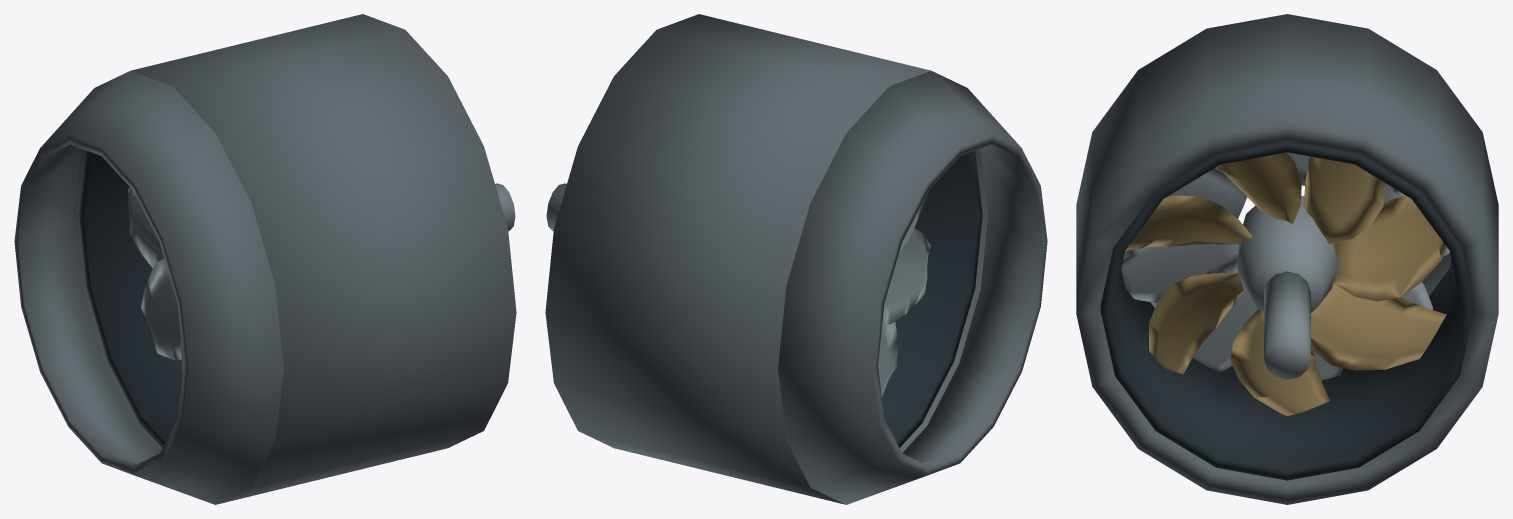
Rendered from CN_PJ_Type093B_LOD2.fbx.
3 views of the same model, side by side, from view 1: azimuth 30°, elevation 25°; view 2: azimuth 150°, elevation 25°; view 3: azimuth 270°, elevation 25° (orthographic). The views are drawn at different scales.
Visible parts, largest first — view 1: CN_PJ_Type093B_LOD2_Housing.001, CN_PJ_Type093B_LOD2_Nozzle.001, CN_PJ_Type093B_LOD2_Lining.001, CN_PJ_Type093B_LOD2_Stator_08.001, CN_PJ_Type093B_LOD2_Stator_00.001; view 2: CN_PJ_Type093B_LOD2_Housing.001, CN_PJ_Type093B_LOD2_Nozzle.001, CN_PJ_Type093B_LOD2_Lining.001, CN_PJ_Type093B_LOD2_Stator_05.001, CN_PJ_Type093B_LOD2_Stator_06.001; view 3: CN_PJ_Type093B_LOD2_Housing.001, CN_PJ_Type093B_LOD2_Lining.001, CN_PJ_Type093B_LOD2_Rotor_06.001, CN_PJ_Type093B_LOD2_Rotor_00.001, CN_PJ_Type093B_LOD2_Hub.001, CN_PJ_Type093B_LOD2_Rotor_04.001, CN_PJ_Type093B_LOD2_Rotor_01.001, CN_PJ_Type093B_LOD2_Shaft.001, CN_PJ_Type093B_LOD2_Rotor_05.001, CN_PJ_Type093B_LOD2_Rotor_03.001, CN_PJ_Type093B_LOD2_Stator_05.001, CN_PJ_Type093B_LOD2_Rotor_02.001 (+3 smaller).
Part boxes in pixels (box(x1,y1,x2,y2)): CN_PJ_Type093B_LOD2_Housing.001: box(73, 14, 516, 504); CN_PJ_Type093B_LOD2_Nozzle.001: box(14, 71, 283, 504); CN_PJ_Type093B_LOD2_Lining.001: box(79, 151, 182, 447); CN_PJ_Type093B_LOD2_Stator_08.001: box(141, 259, 181, 359); CN_PJ_Type093B_LOD2_Stator_00.001: box(128, 187, 164, 268); CN_PJ_Type093B_LOD2_Housing.001: box(545, 14, 988, 504); CN_PJ_Type093B_LOD2_Nozzle.001: box(778, 71, 1047, 504); CN_PJ_Type093B_LOD2_Lining.001: box(882, 151, 982, 447); CN_PJ_Type093B_LOD2_Stator_05.001: box(882, 228, 930, 324); CN_PJ_Type093B_LOD2_Stator_06.001: box(878, 322, 898, 396); CN_PJ_Type093B_LOD2_Housing.001: box(1076, 14, 1498, 504); CN_PJ_Type093B_LOD2_Lining.001: box(1100, 142, 1474, 480); CN_PJ_Type093B_LOD2_Rotor_06.001: box(1311, 280, 1446, 370); CN_PJ_Type093B_LOD2_Rotor_00.001: box(1334, 196, 1447, 301); CN_PJ_Type093B_LOD2_Hub.001: box(1236, 195, 1338, 312); CN_PJ_Type093B_LOD2_Rotor_04.001: box(1149, 273, 1244, 374); CN_PJ_Type093B_LOD2_Rotor_01.001: box(1303, 156, 1385, 244); CN_PJ_Type093B_LOD2_Shaft.001: box(1264, 271, 1310, 379); CN_PJ_Type093B_LOD2_Rotor_05.001: box(1230, 309, 1329, 415); CN_PJ_Type093B_LOD2_Rotor_03.001: box(1125, 195, 1252, 251); CN_PJ_Type093B_LOD2_Stator_05.001: box(1121, 244, 1238, 302); CN_PJ_Type093B_LOD2_Rotor_02.001: box(1217, 152, 1301, 223).
Bounding box in the file's own units: 564 × 540 × 540.
